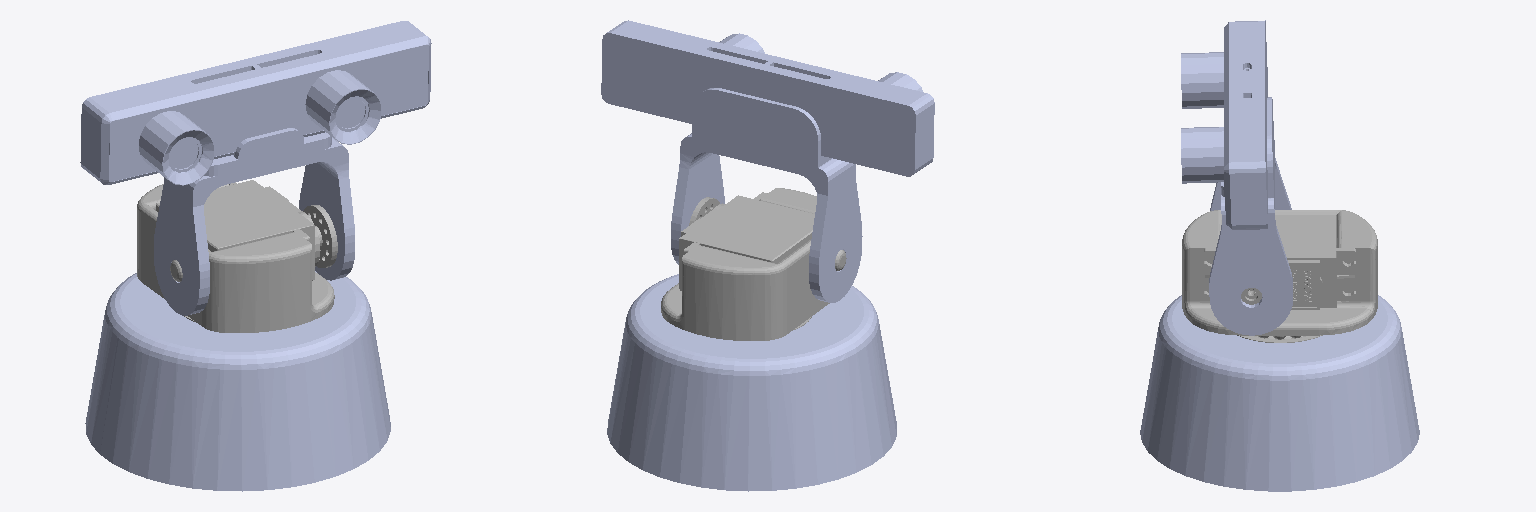
URDF robot description (camera_mechanism_movment):
<?xml version="1.0" encoding="utf-8" ?>
<!-- This URDF was automatically created by SolidWorks to URDF Exporter! Originally created by [author] ([email redacted]) 
     Commit Version: 1.6.0-4-g7f85cfe  Build Version: 1.6.7995.38578
     For more information, please see http://wiki.ros.org/sw_urdf_exporter -->
<robot name="camera_mechanism_movment">
    <link name="base_link">
        <inertial>
            <origin xyz="-1.042E-08 -0.0034422 0.026198" rpy="0 0 0" />
            <mass value="0.090334" />
            <inertia ixx="6.8467E-05" ixy="5.9979E-12" ixz="1.3439E-12" iyy="6.5123E-05" iyz="-1.8873E-07" izz="0.00010174" />
        </inertial>
        <visual>
            <origin xyz="0 0 0" rpy="0 0 0" />
            <geometry>
                <mesh filename="package://camera_mechanism_movment/meshes/base_link.STL" />
            </geometry>
            <material name="">
                <color rgba="0.79216 0.81961 0.93333 1" />
            </material>
        </visual>
        <collision>
            <origin xyz="0 0 0" rpy="0 0 0" />
            <geometry>
                <mesh filename="package://camera_mechanism_movment/meshes/base_link.STL" />
            </geometry>
        </collision>
    </link>
    <link name="link_1">
        <inertial>
            <origin xyz="-0.00274428257190968 -0.00020748847805208 0.0169598693710931" rpy="0 0 0" />
            <mass value="0.0762928038541526" />
            <inertia ixx="2.78524913265596E-05" ixy="1.44751279636948E-08" ixz="7.79881822675902E-07" iyy="1.38848895102569E-05" iyz="1.4640337530444E-08" izz="3.46925557643959E-05" />
        </inertial>
        <visual>
            <origin xyz="0 0 0" rpy="0 0 0" />
            <geometry>
                <mesh filename="package://camera_mechanism_movment/meshes/link_1.STL" />
            </geometry>
            <material name="">
                <color rgba="0.752941176470588 0.752941176470588 0.752941176470588 1" />
            </material>
        </visual>
        <collision>
            <origin xyz="0 0 0" rpy="0 0 0" />
            <geometry>
                <mesh filename="package://camera_mechanism_movment/meshes/link_1.STL" />
            </geometry>
        </collision>
    </link>
    <joint name="joint_1" type="revolute">
        <origin xyz="0 0 0.045256" rpy="0 0 0" />
        <parent link="base_link" />
        <child link="link_1" />
        <axis xyz="0 0 -1" />
        <limit lower="-1.5708" upper="1.5708" effort="15" velocity="137" />
    </joint>
    <link name="link_2">
        <inertial>
            <origin xyz="0.00319069336561053 0.0467174118427644 0.0302711238523648" rpy="0 0 0" />
            <mass value="0.0760046548351893" />
            <inertia ixx="8.75759430262867E-05" ixy="-3.75975452138231E-08" ixz="-8.26121264442182E-07" iyy="8.43979936608012E-05" iyz="3.14738619919505E-08" izz="1.01097278745386E-05" />
        </inertial>
        <visual>
            <origin xyz="0 0 0" rpy="0 0 0" />
            <geometry>
                <mesh filename="package://camera_mechanism_movment/meshes/link_2.STL" />
            </geometry>
            <material name="">
                <color rgba="0.792156862745098 0.819607843137255 0.933333333333333 1" />
            </material>
        </visual>
        <collision>
            <origin xyz="0 0 0" rpy="0 0 0" />
            <geometry>
                <mesh filename="package://camera_mechanism_movment/meshes/link_2.STL" />
            </geometry>
        </collision>
    </link>
    <joint name="joint_2" type="revolute">
        <origin xyz="0.029615 -0.010178 0.021744" rpy="1.5708 0 -1.5708" />
        <parent link="link_1" />
        <child link="link_2" />
        <axis xyz="0 0 1" />
        <limit lower="-1.5708" upper="1.5708" effort="15" velocity="137" />
    </joint>
    <transmission name="trans_joint_1">
        <type>transmission_interface/SimpleTransmission</type>
        <joint name="joint_1">
            <hardwareInterface>hardware_interface/EffortJointInterface</hardwareInterface>
        </joint>
        <actuator name="joint_1_motor">
            <hardwareInterface>hardware_interface/EffortJointInterface</hardwareInterface>
            <mechanicalReduction>1</mechanicalReduction>
        </actuator>
    </transmission>
    <transmission name="trans_joint_2">
        <type>transmission_interface/SimpleTransmission</type>
        <joint name="joint_2">
            <hardwareInterface>hardware_interface/EffortJointInterface</hardwareInterface>
        </joint>
        <actuator name="joint_2_motor">
            <hardwareInterface>hardware_interface/EffortJointInterface</hardwareInterface>
            <mechanicalReduction>1</mechanicalReduction>
        </actuator>
    </transmission>
    <gazebo>
        <plugin name="gazebo_ros_control">
            <robotNamespace>/</robotNamespace>
        </plugin>
    </gazebo>
</robot>

--- Render facts (derived) ---
3 views of the same robot in one strip: view 1: azimuth 30°, elevation 25°; view 2: azimuth 150°, elevation 25°; view 3: azimuth 270°, elevation 25° (orthographic).
Robot: camera_mechanism_movment — 3 links, 2 joints (2 revolute); root link base_link; default pose: every joint at zero.
Visible links, largest first — view 1: base_link, link_2, link_1; view 2: base_link, link_2, link_1; view 3: base_link, link_2, link_1.
Boxes of the visible links, left/top/right/bottom form: base_link: left=85, top=271, right=390, bottom=491; link_2: left=80, top=21, right=431, bottom=315; link_1: left=137, top=180, right=337, bottom=332; base_link: left=607, top=274, right=896, bottom=491; link_2: left=601, top=20, right=934, bottom=302; link_1: left=661, top=188, right=846, bottom=340; base_link: left=1140, top=295, right=1419, bottom=491; link_2: left=1181, top=20, right=1292, bottom=335; link_1: left=1182, top=210, right=1377, bottom=342.
Size in the robot's own frame: 0.1245 by 0.1 by 0.1347 metres.
3 mesh visuals loaded from 3 distinct referenced files (3 binary STL).